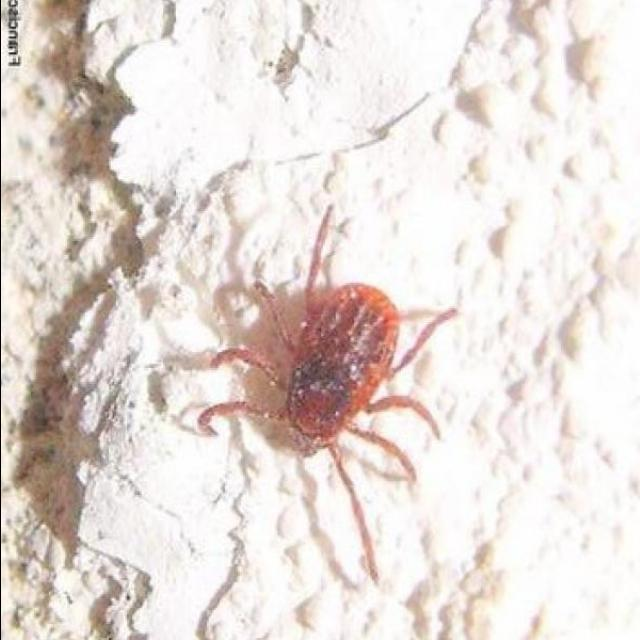Rhipicephalus Sanguineus-F: (171, 207, 458, 584)
